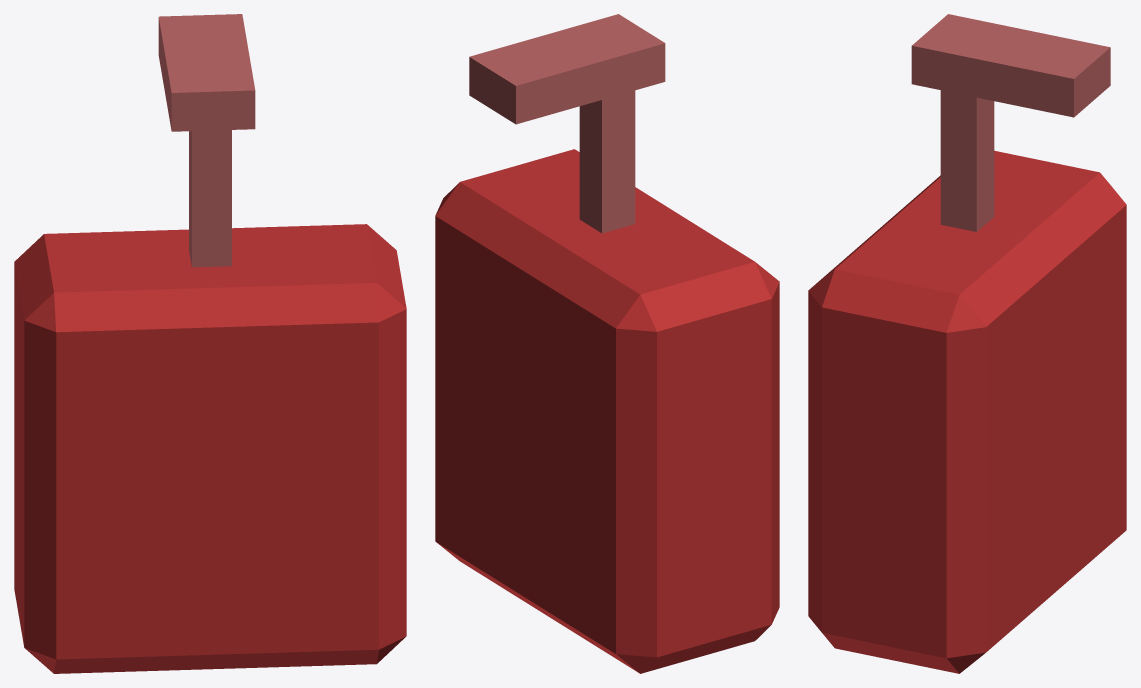
Rendered from Kitchen_Dispenser.fbx.
3 renders of one model, left to right at view 1: azimuth 30°, elevation 25°; view 2: azimuth 150°, elevation 25°; view 3: azimuth 270°, elevation 25°, orthographic.
Visible parts, largest first — view 1: Kitchen_Dispenser; view 2: Kitchen_Dispenser; view 3: Kitchen_Dispenser.
Part boxes in pixels (x1=…): Kitchen_Dispenser: x1=14, y1=14, x2=406, y2=673; Kitchen_Dispenser: x1=435, y1=14, x2=779, y2=673; Kitchen_Dispenser: x1=808, y1=14, x2=1126, y2=673.
Size of the model in its own units: 16.31 by 25.09 by 12.88.
